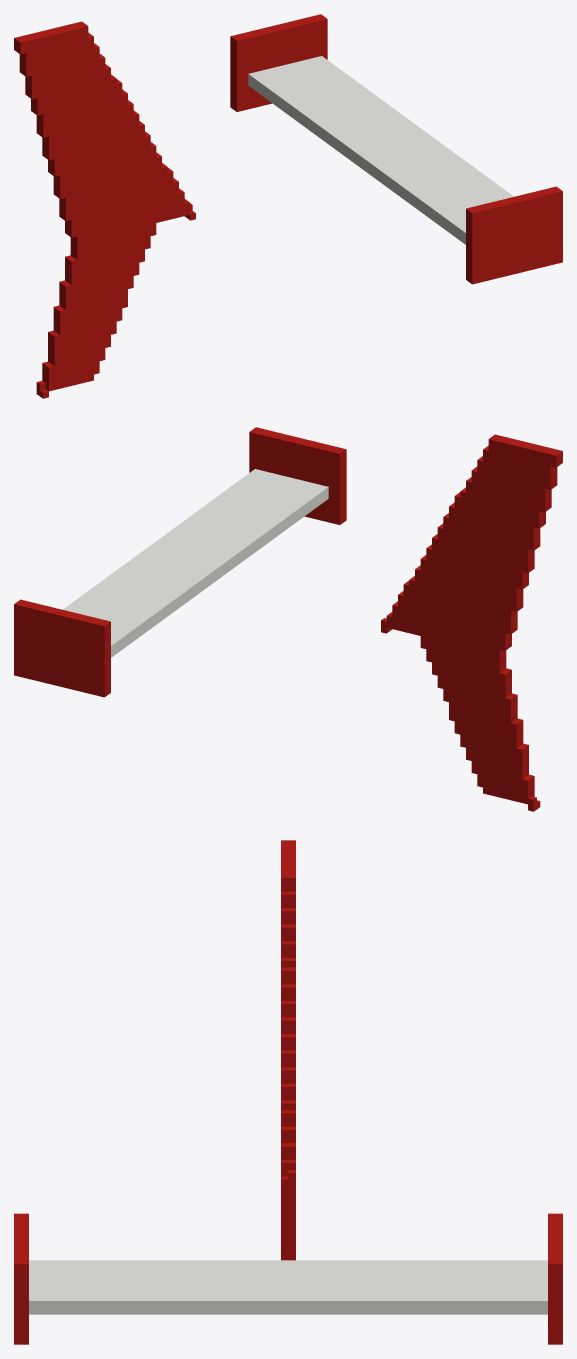
Rendered from air_ambulance_tail_surfaces.glb.
3 renders of one model, top to bottom at view 1: azimuth 30°, elevation 25°; view 2: azimuth 150°, elevation 25°; view 3: azimuth 270°, elevation 25°, orthographic. The views are drawn at different scales.
Visible parts, largest first — view 1: body:compound; view 2: body:compound; view 3: body:compound.
Boxes of the visible parts, bbox=[...] form: body:compound: bbox=[14, 14, 562, 398]; body:compound: bbox=[14, 427, 562, 811]; body:compound: bbox=[14, 840, 562, 1344].
Size of the model in its own units: 2.34 by 1.91 by 2.31.
